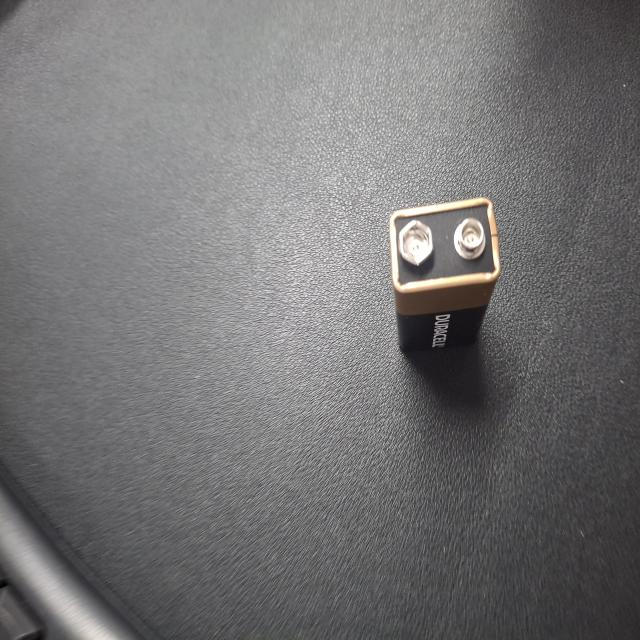9V: (216, 518, 331, 640)
